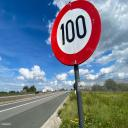speed_limit_100: (50, 0, 102, 70)
